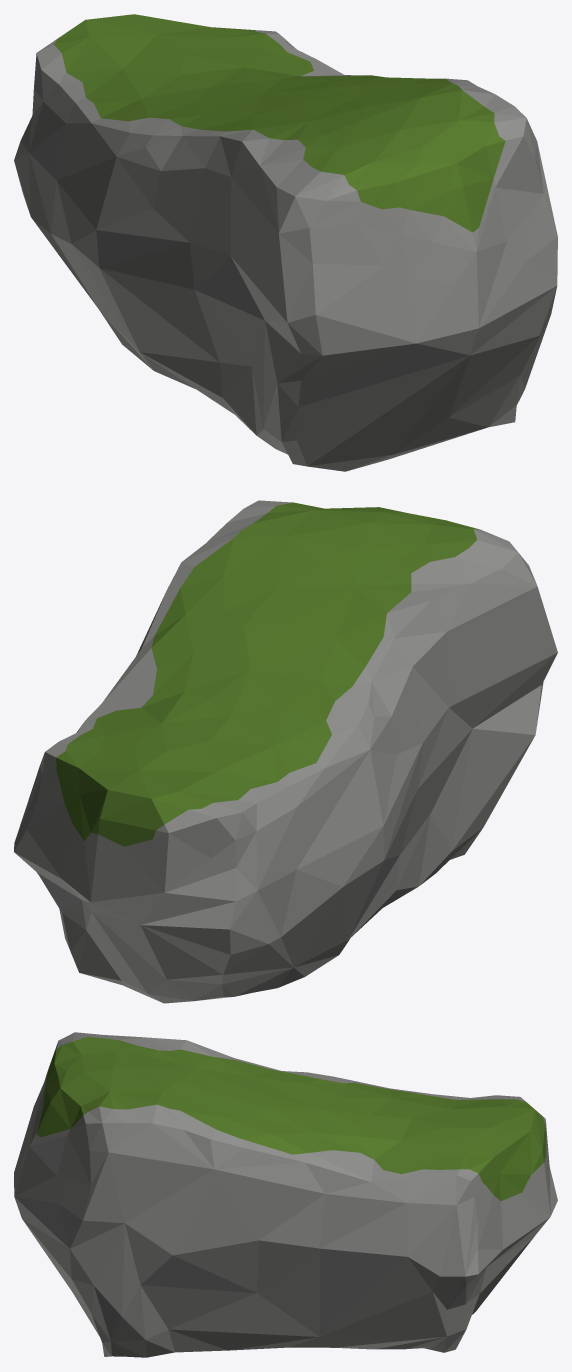
The model's file is Cavern_FloorGrass_Narrow_Ramp_Sml-02.fbx.
3 renders of one model, top to bottom at view 1: azimuth 30°, elevation 25°; view 2: azimuth 150°, elevation 25°; view 3: azimuth 270°, elevation 25°, orthographic. The views are drawn at different scales.
Parts seen in each view (by area): view 1: Cavern_FloorGrass_Narrow_Ramp_Sml-02; view 2: Cavern_FloorGrass_Narrow_Ramp_Sml-02; view 3: Cavern_FloorGrass_Narrow_Ramp_Sml-02.
Boxes of the visible parts, box(x1,y1,x2,y2) form: Cavern_FloorGrass_Narrow_Ramp_Sml-02: box(14, 14, 557, 471); Cavern_FloorGrass_Narrow_Ramp_Sml-02: box(14, 500, 557, 1003); Cavern_FloorGrass_Narrow_Ramp_Sml-02: box(14, 1032, 557, 1357).
Size of the model in its own units: 621 by 643 by 1184.
1 material, 1 textured.
